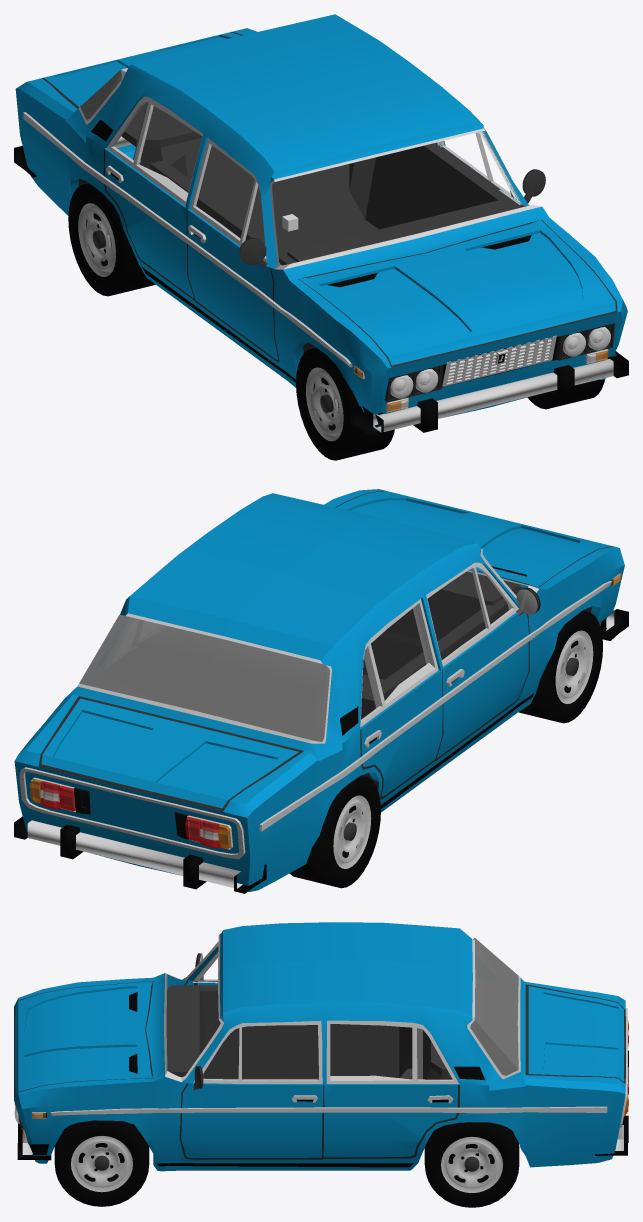
Rendered from car.fbx.
3 renders of one model, top to bottom at view 1: azimuth 30°, elevation 25°; view 2: azimuth 150°, elevation 25°; view 3: azimuth 270°, elevation 25°, orthographic. The views are drawn at different scales.
Visible parts, largest first — view 1: Плоскость.000, Плоскость.001, Куб.019, Куб.007, Цилиндр.003, Цилиндр.002, Куб.020, Куб.004, Цилиндр.001, Цилиндр.005, Плоскость.003; view 2: Плоскость.000, Плоскость.001, Цилиндр.003, Цилиндр.002, Куб.017, Куб.020, Куб.019, Куб.007; view 3: Плоскость.000, Плоскость.001, Куб.019, Цилиндр, Цилиндр.001, Куб.020, Куб.007, Куб.017.
Boxes of the visible parts, <box> form: Плоскость.000: <box>15,14,627,427</box>; Плоскость.001: <box>16,15,627,426</box>; Куб.019: <box>121,102,523,265</box>; Куб.007: <box>350,351,628,437</box>; Цилиндр.003: <box>68,183,155,296</box>; Цилиндр.002: <box>296,347,394,460</box>; Куб.020: <box>287,200,511,262</box>; Куб.004: <box>442,335,556,386</box>; Цилиндр.001: <box>527,379,604,409</box>; Цилиндр.005: <box>239,238,266,268</box>; Плоскость.003: <box>555,323,614,360</box>; Плоскость.000: <box>14,489,624,891</box>; Плоскость.001: <box>15,489,624,891</box>; Цилиндр.003: <box>289,775,380,888</box>; Цилиндр.002: <box>518,610,602,723</box>; Куб.017: <box>14,816,266,893</box>; Куб.020: <box>363,571,521,679</box>; Куб.019: <box>361,594,516,719</box>; Куб.007: <box>600,609,628,640</box>; Плоскость.000: <box>14,922,627,1171</box>; Плоскость.001: <box>14,922,627,1170</box>; Куб.019: <box>171,985,449,1079</box>; Цилиндр: <box>424,1122,519,1207</box>; Цилиндр.001: <box>54,1120,149,1206</box>; Куб.020: <box>166,986,206,1078</box>; Куб.007: <box>17,1123,51,1160</box>; Куб.017: <box>595,1050,628,1155</box>.
Bounding box in the file's own units: 98.54 × 73.25 × 209.
